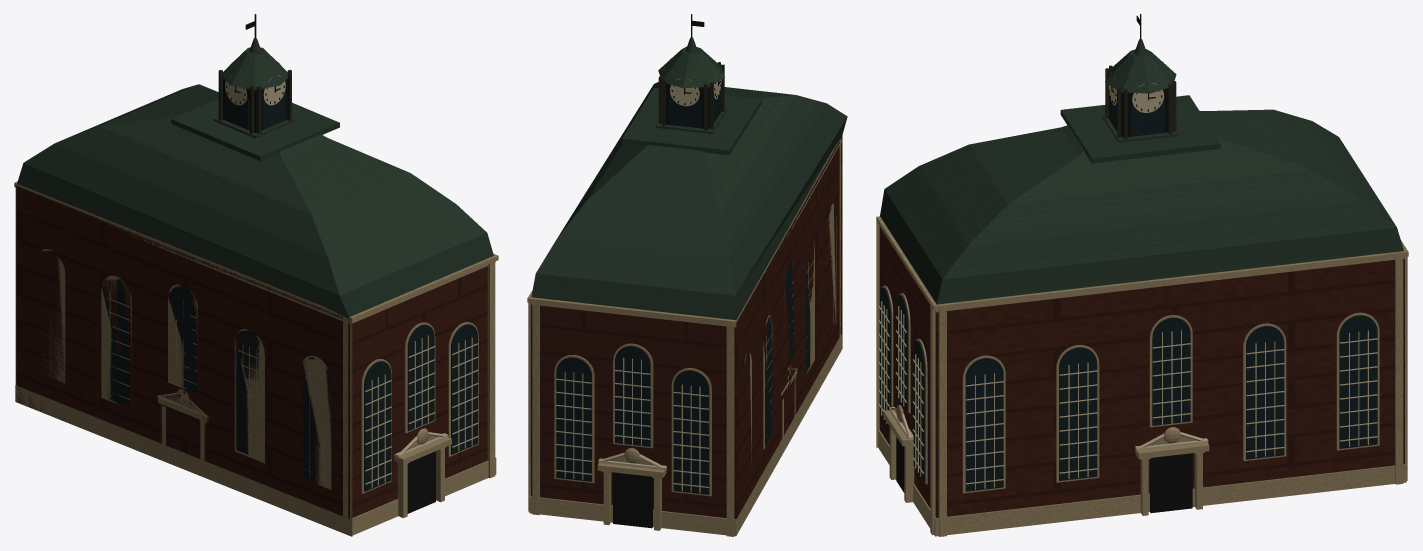
3 views of the same model, side by side, from view 1: azimuth 30°, elevation 25°; view 2: azimuth 150°, elevation 25°; view 3: azimuth 270°, elevation 25° (orthographic). The views are drawn at different scales.
Parts seen in each view (by area): view 1: luthersekerk-0, luthersekerk-2, luthersekerk-1, luthersekerk-3, luthersekerk-4, luthersekerk-5, luthersekerk-6; view 2: luthersekerk-2, luthersekerk-0, luthersekerk-1, luthersekerk-3, luthersekerk-4, luthersekerk-5, luthersekerk-6; view 3: luthersekerk-2, luthersekerk-0, luthersekerk-1, luthersekerk-3, luthersekerk-4, luthersekerk-5, luthersekerk-6.
Part boxes in pixels (x1=…): luthersekerk-0: x1=16, y1=186, x2=487, y2=518; luthersekerk-2: x1=17, y1=38, x2=493, y2=319; luthersekerk-1: x1=14, y1=181, x2=498, y2=536; luthersekerk-3: x1=37, y1=91, x2=477, y2=491; luthersekerk-4: x1=106, y1=61, x2=478, y2=488; luthersekerk-5: x1=187, y1=14, x2=435, y2=513; luthersekerk-6: x1=218, y1=70, x2=291, y2=133; luthersekerk-2: x1=531, y1=37, x2=847, y2=320; luthersekerk-0: x1=531, y1=137, x2=841, y2=519; luthersekerk-1: x1=527, y1=135, x2=842, y2=536; luthersekerk-3: x1=556, y1=84, x2=835, y2=494; luthersekerk-4: x1=556, y1=67, x2=833, y2=492; luthersekerk-5: x1=613, y1=14, x2=721, y2=528; luthersekerk-6: x1=658, y1=58, x2=724, y2=130; luthersekerk-2: x1=880, y1=39, x2=1403, y2=304; luthersekerk-0: x1=879, y1=226, x2=1404, y2=517; luthersekerk-1: x1=876, y1=216, x2=1408, y2=536; luthersekerk-3: x1=879, y1=89, x2=1377, y2=491; luthersekerk-4: x1=878, y1=71, x2=1377, y2=489; luthersekerk-5: x1=896, y1=14, x2=1192, y2=513; luthersekerk-6: x1=1105, y1=62, x2=1176, y2=139.
Bounding box in the file's own units: 25.1 × 35.25 × 37.97.
Materials: 7 (7 with a texture image).
